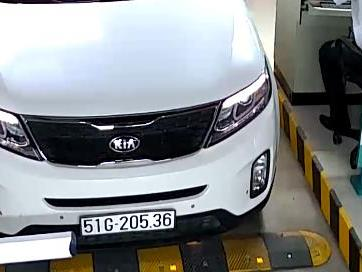number: (79, 209, 176, 237)
